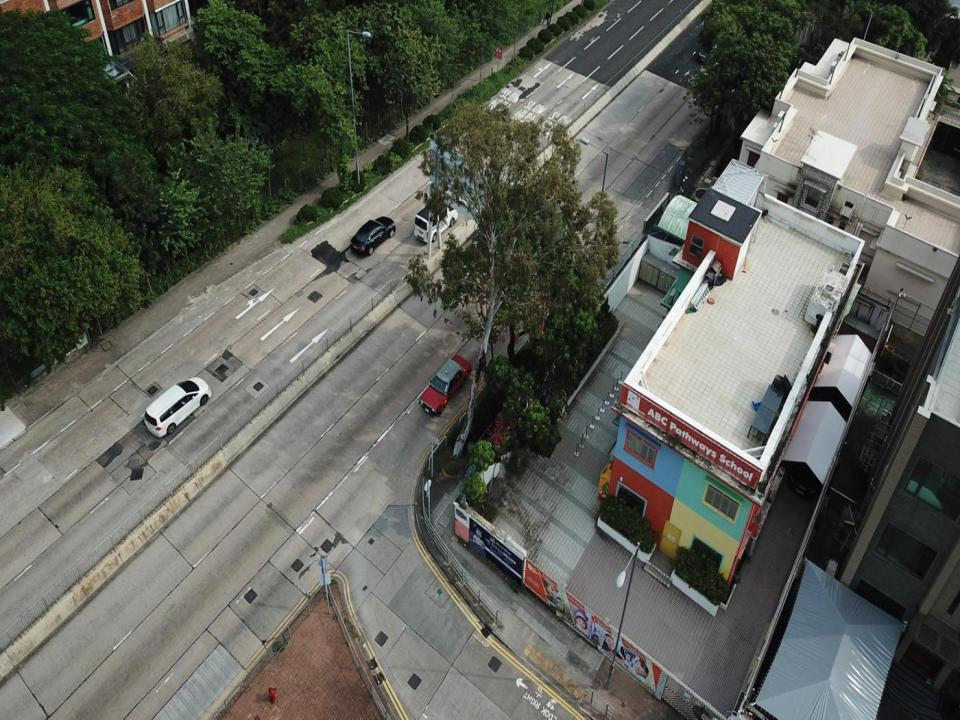car: (419, 352, 471, 416), (349, 216, 396, 256), (414, 202, 458, 243)
van: (144, 376, 211, 438)
